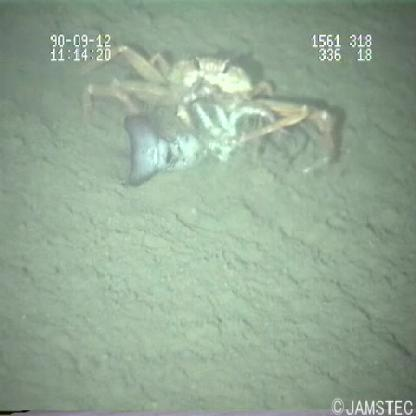Bio: (73, 41, 343, 182)
